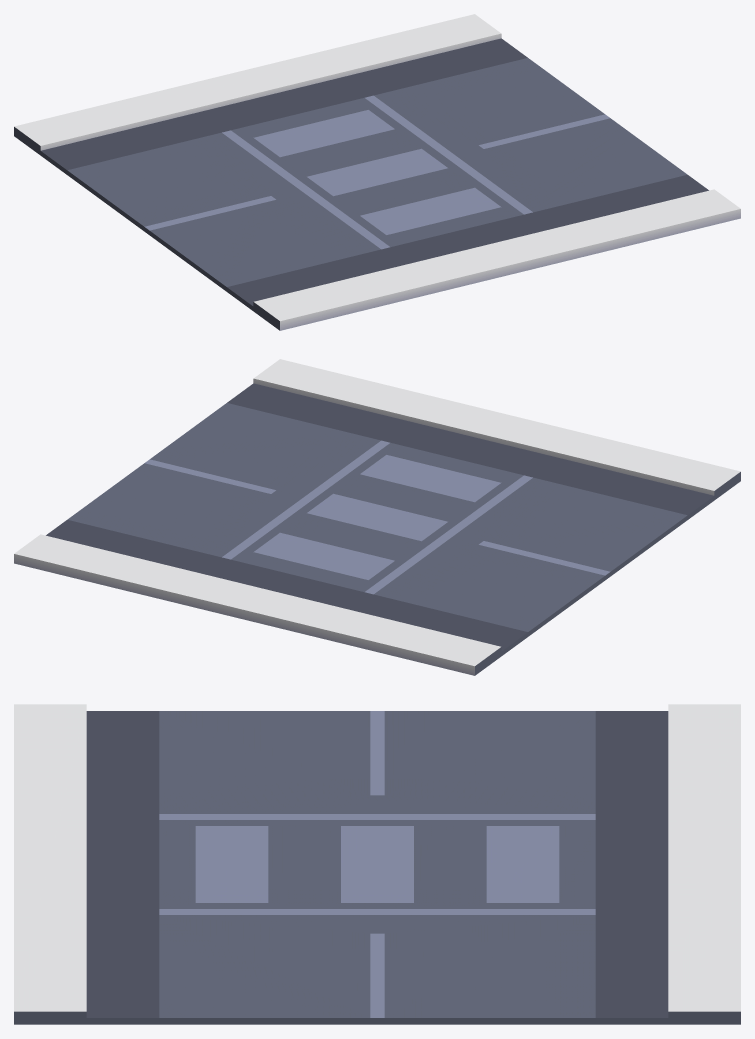
Rendered from road-crossing.draco.glb.
3 views of the same model, one above another, from view 1: azimuth 30°, elevation 25°; view 2: azimuth 150°, elevation 25°; view 3: azimuth 270°, elevation 25° (orthographic). The views are drawn at different scales.
Visible parts, largest first — view 1: road-crossing; view 2: road-crossing; view 3: road-crossing.
Part boxes in pixels (x1,y1,x2,y2): road-crossing: (14, 14, 740, 330); road-crossing: (14, 359, 740, 675); road-crossing: (14, 704, 740, 1024).
Size of the model in its own units: 1 by 0.02 by 1.
1 material, 1 textured.
